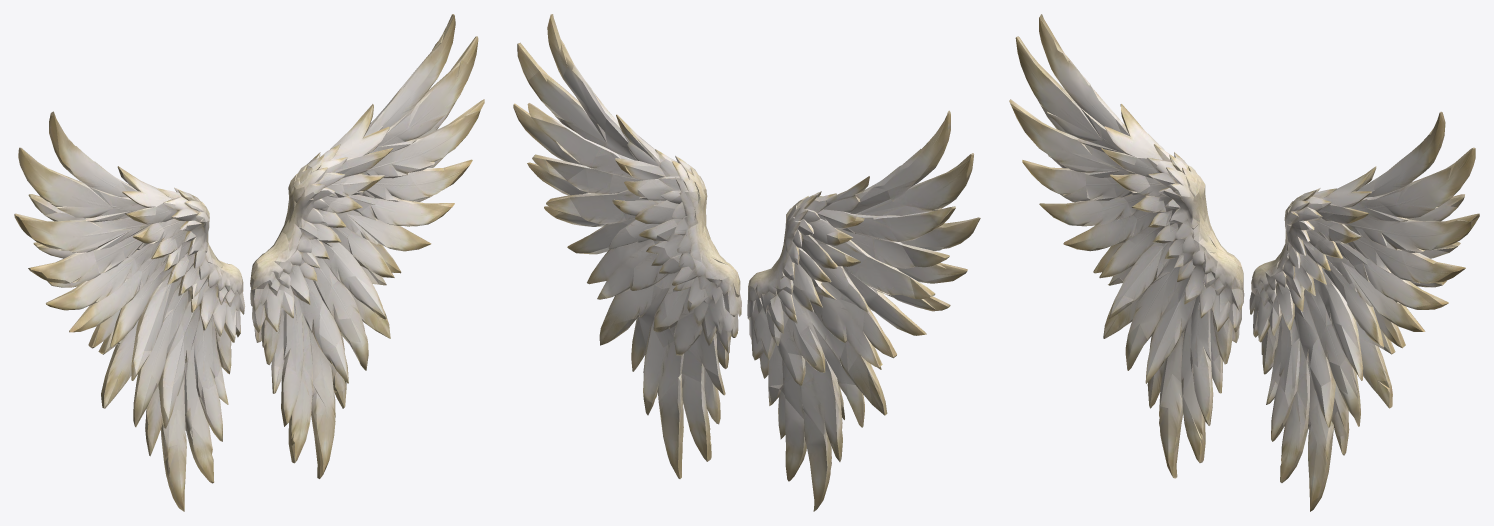
File: acc_wings.glb
The picture shows the model from 3 angles, left to right: view 1: azimuth 30°, elevation 25°; view 2: azimuth 150°, elevation 25°; view 3: azimuth 330°, elevation 25°; orthographic projection.
Parts seen in each view (by area): view 1: Mesh_0; view 2: Mesh_0; view 3: Mesh_0.
Part boxes in pixels (box(x1,y1,x2,y2)): Mesh_0: box(14, 14, 484, 511); Mesh_0: box(513, 14, 980, 511); Mesh_0: box(1009, 14, 1479, 511).
Bounding box in the file's own units: 1.9 × 1.68 × 0.1765.
1 material, 1 textured.
